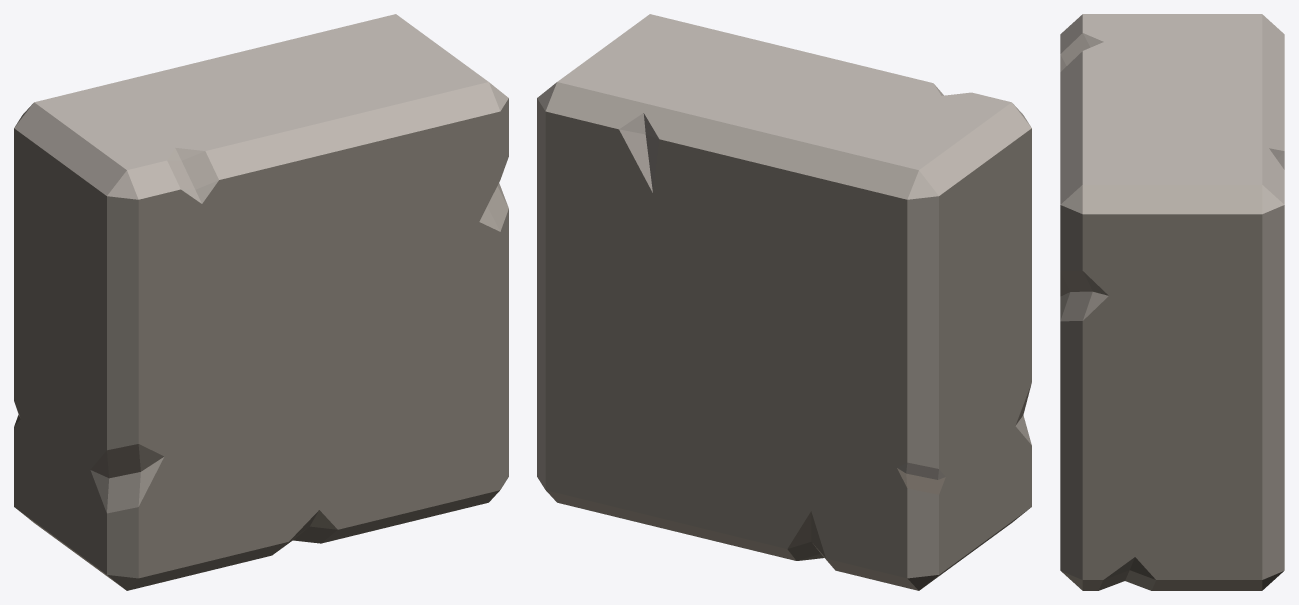
The model's file is m_kub_stone_halfBig.FBX.
The picture shows the model from 3 angles, left to right: view 1: azimuth 30°, elevation 25°; view 2: azimuth 150°, elevation 25°; view 3: azimuth 270°, elevation 25°; orthographic projection. The views are drawn at different scales.
Visible parts, largest first — view 1: m_kub_stone_halfBig; view 2: m_kub_stone_halfBig; view 3: m_kub_stone_halfBig.
Part boxes in pixels (bbox=[...]): m_kub_stone_halfBig: bbox=[14, 14, 508, 590]; m_kub_stone_halfBig: bbox=[537, 14, 1031, 590]; m_kub_stone_halfBig: bbox=[1060, 14, 1284, 590].
Size of the model in its own units: 2 by 2 by 1.
